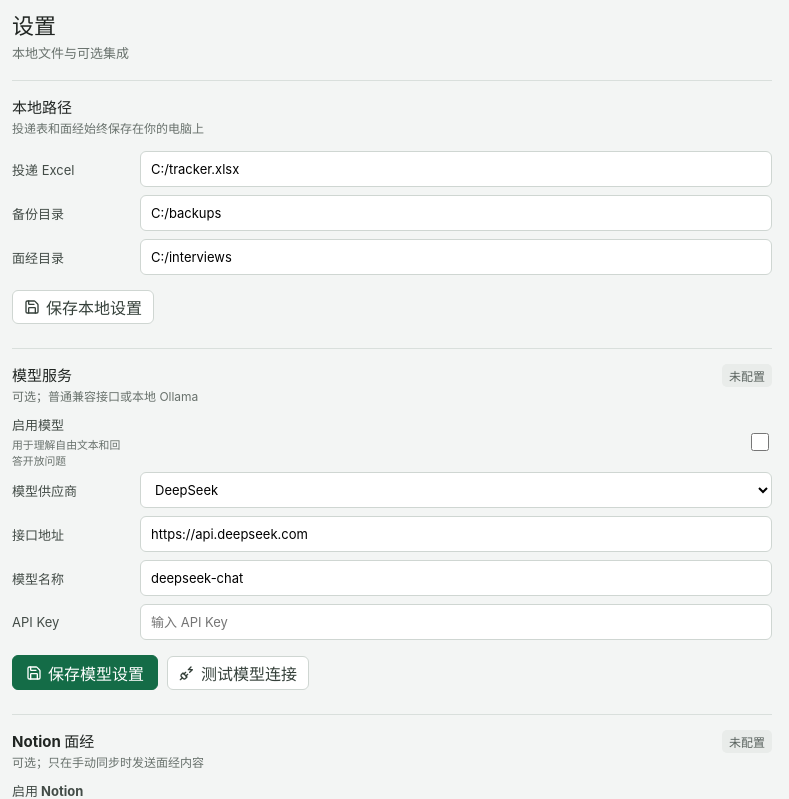
Test: SettingsView integrations › reports a failed model connection with the stable UI state
The image size is (789, 799).
Click the button "测试模型连接": (238, 672) top-left (167, 656), bottom-right (309, 690)
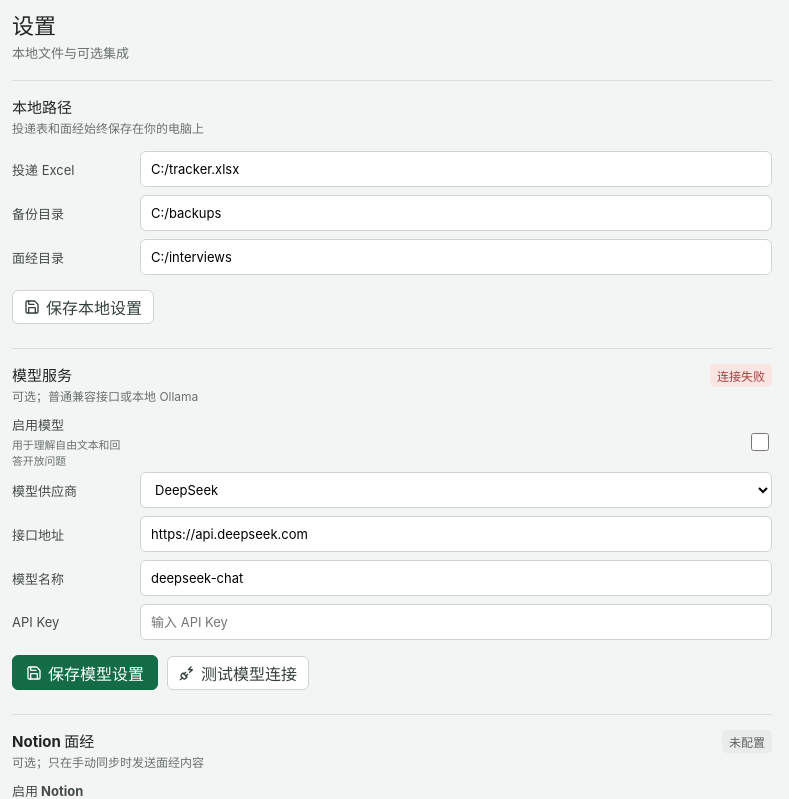
expect the text "连接失败" is shown: met, box top-left (710, 364), bottom-right (772, 387)
